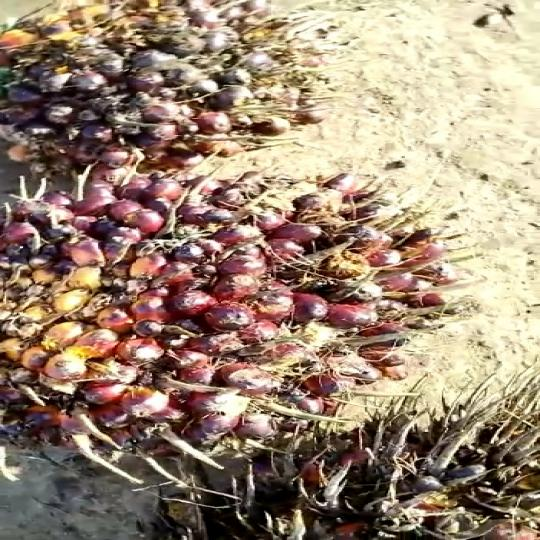kurang masak: (0, 165, 460, 484), (2, 0, 357, 164)
